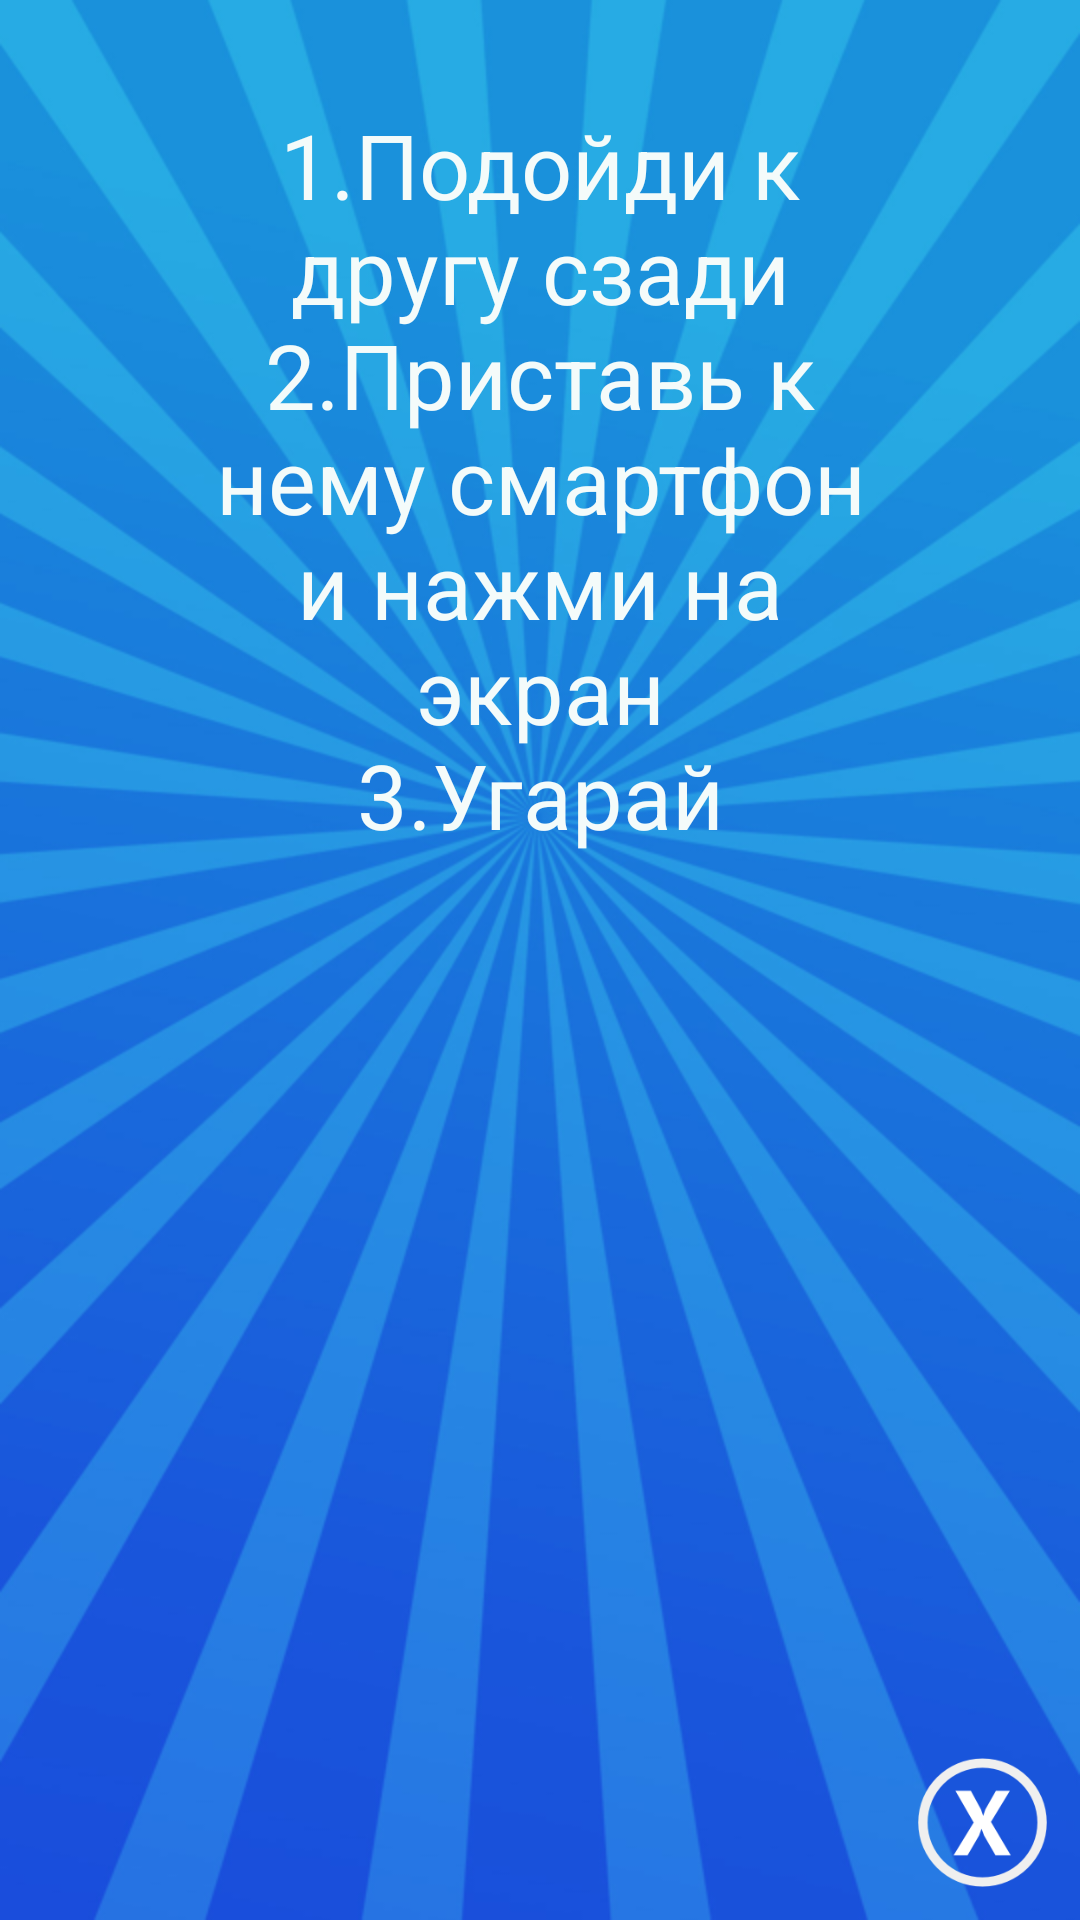

Where icons sit on this 1080px x 1920px app screen, as (x1, y1, x2, y2):
close: (918, 1758, 1047, 1887)
